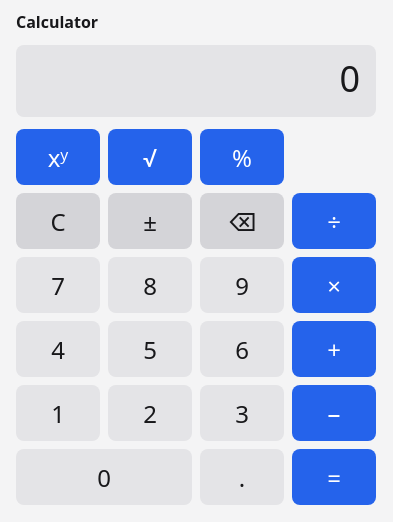
Test case: App › toggles the sign
Step 1. Click the button "8" → (150, 285), box [108,257,192,313]
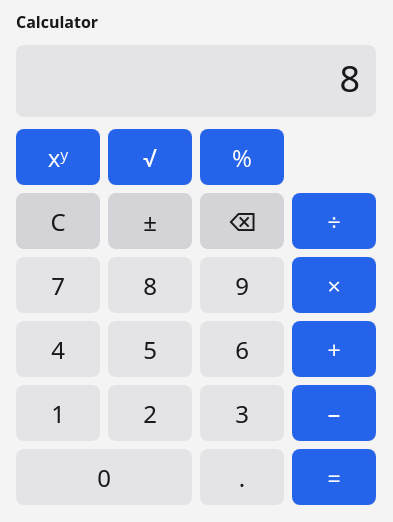
Step 2. Click the button named "Toggle sign" → (150, 221), box [108,193,192,249]
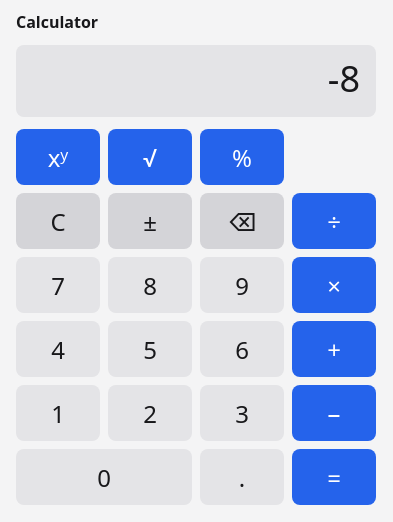
Expected: the message named "Display" reads "-8", [328,54,360,103]
